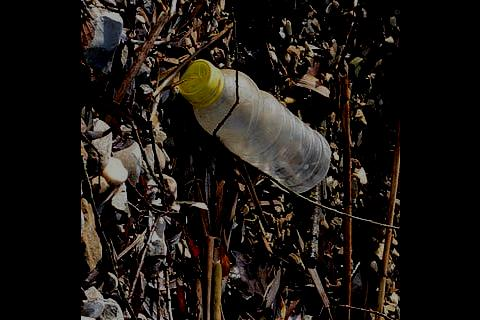bottle: (176, 49, 339, 198)
